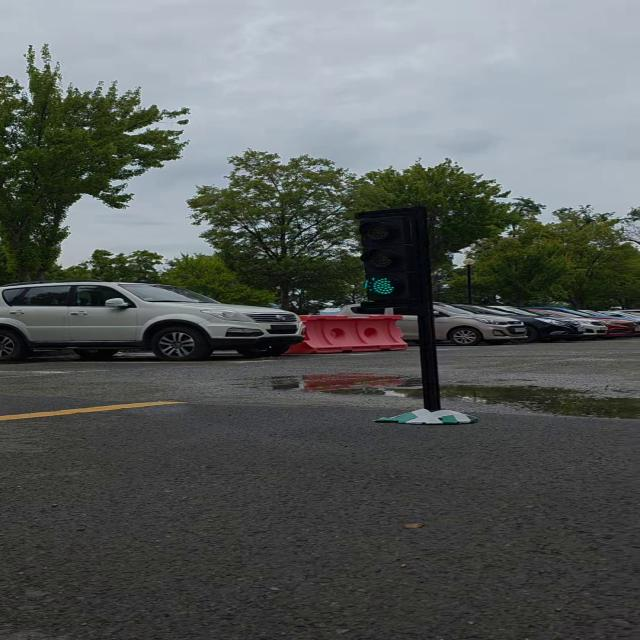green: (354, 208, 431, 308)
